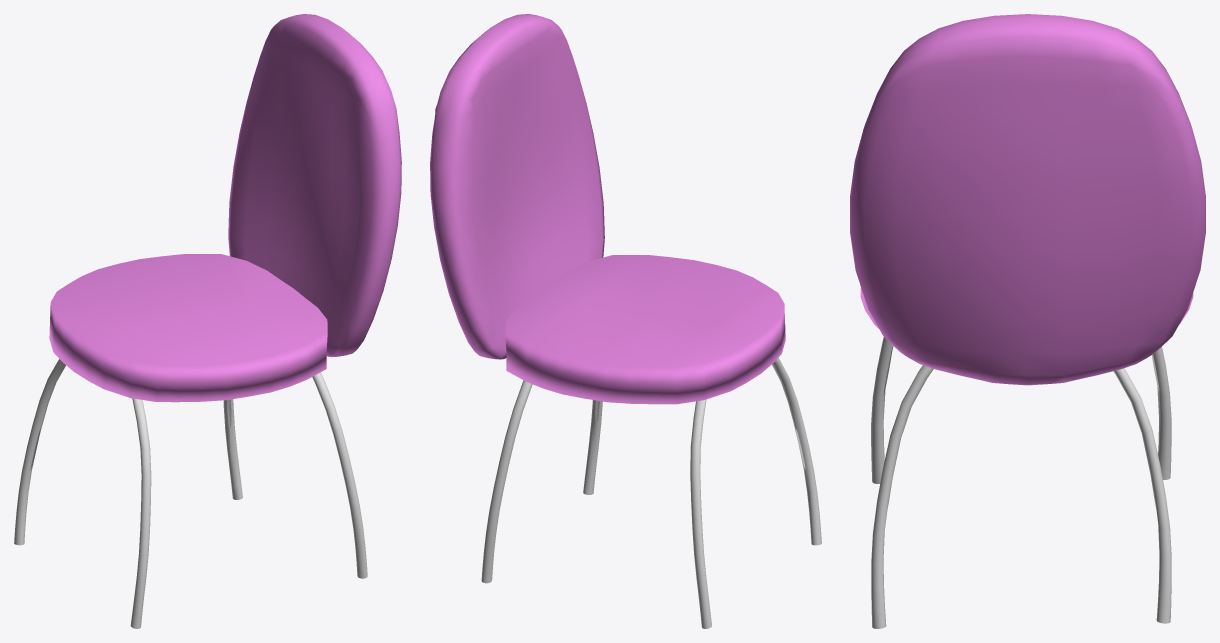
File: BasicChair.fbx
3 renders of one model, left to right at view 1: azimuth 30°, elevation 25°; view 2: azimuth 150°, elevation 25°; view 3: azimuth 270°, elevation 25°, orthographic. The views are drawn at different scales.
Parts seen in each view (by area): view 1: seat; view 2: seat; view 3: seat.
Part boxes in pixels (<box>): seat: <box>14,14,401,628</box>; seat: <box>430,14,821,628</box>; seat: <box>850,14,1205,628</box>.
Size of the model in its own units: 368 by 616 by 316.
